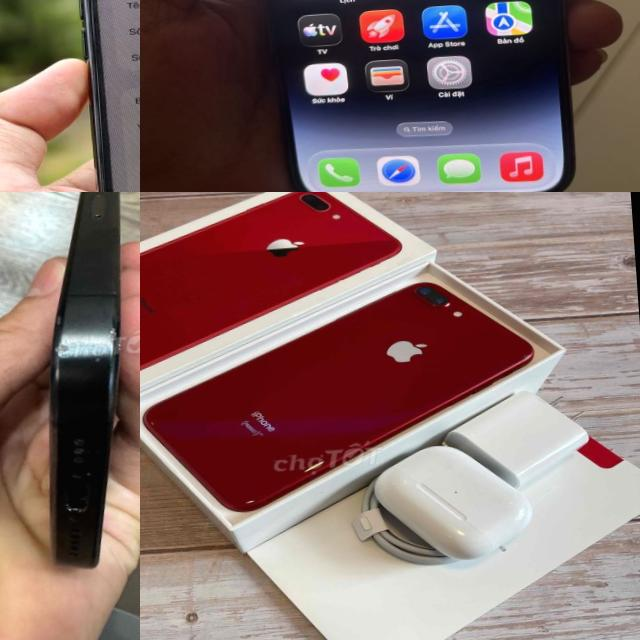gen_14: (221, 0, 592, 192)
gen_15: (24, 192, 140, 575), (52, 0, 140, 192)
gen_7_8: (141, 281, 532, 511)
scratch: (106, 324, 122, 352), (53, 341, 70, 354), (54, 312, 63, 326), (94, 354, 100, 360), (110, 288, 116, 294)
